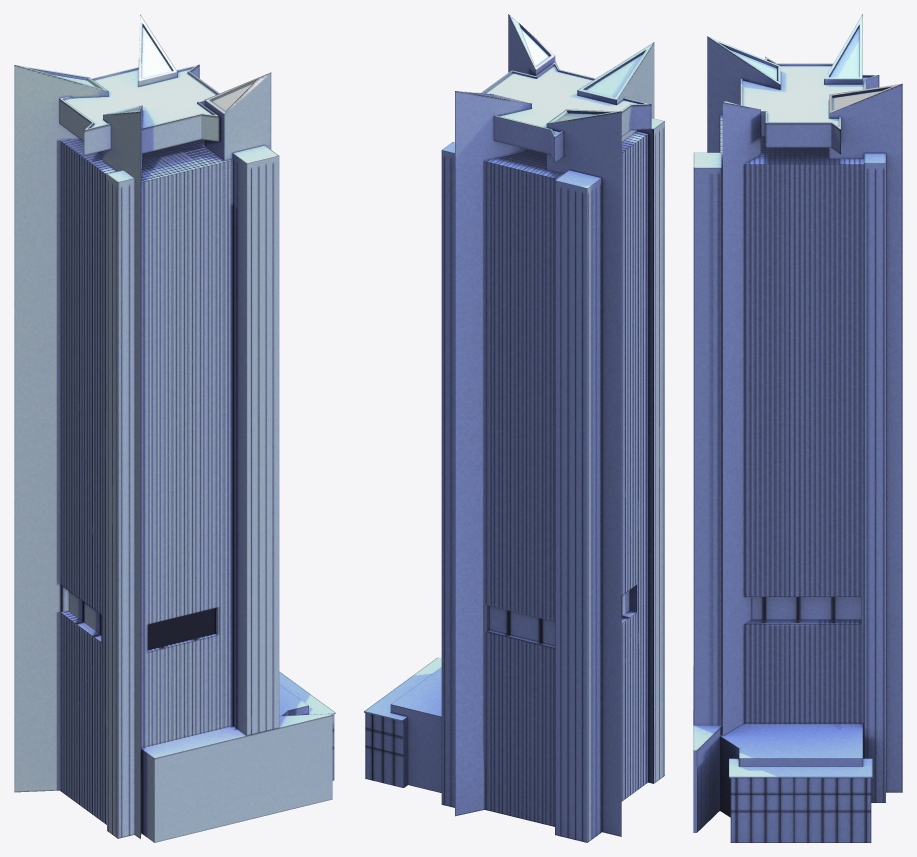
File: 1515_working.glb
The picture shows the model from 3 angles, left to right: view 1: azimuth 30°, elevation 25°; view 2: azimuth 150°, elevation 25°; view 3: azimuth 270°, elevation 25°; orthographic projection. The views are drawn at different scales.
Parts seen in each view (by area): view 1: 1515_6.obj.001; view 2: 1515_6.obj.001; view 3: 1515_6.obj.001.
Boxes of the visible parts, x1,y1,x2,y2 form: 1515_6.obj.001: [14, 14, 335, 842]; 1515_6.obj.001: [364, 14, 664, 842]; 1515_6.obj.001: [693, 14, 902, 842].
Size of the model in its own units: 13.62 by 37.42 by 10.02.
1 material, 1 textured.
